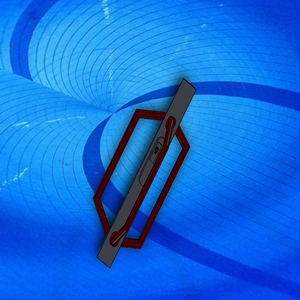submarine: (76, 63, 203, 285)
